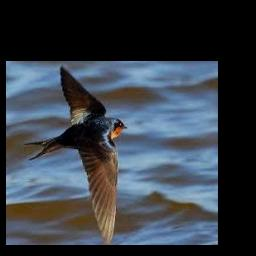Swallow: (25, 66, 128, 244)
